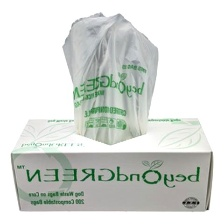book: (5, 110, 217, 217)
tissue: (57, 6, 163, 148)
